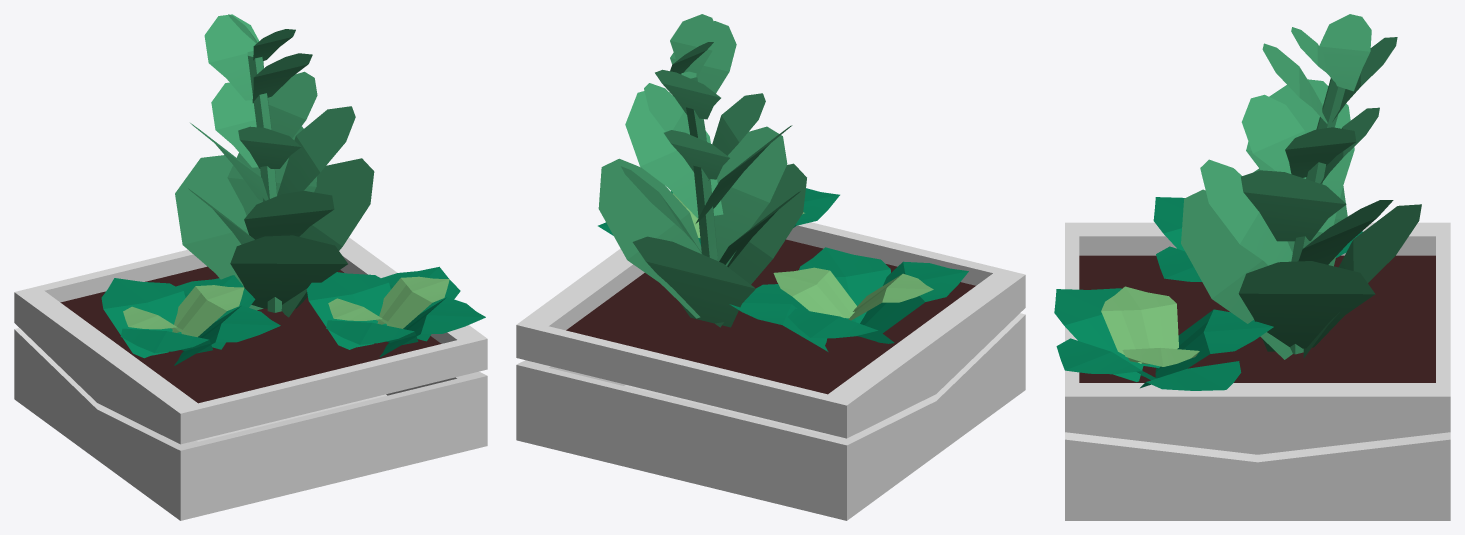
Rendered from Plant_farm_08.fbx.
3 renders of one model, left to right at view 1: azimuth 30°, elevation 25°; view 2: azimuth 150°, elevation 25°; view 3: azimuth 270°, elevation 25°, orthographic. The views are drawn at different scales.
Visible parts, largest first — view 1: polySurface2420, polySurface2139, polySurface2138, polySurface2140, polySurface2411, polySurface2410; view 2: polySurface2139, polySurface2420, polySurface2138, polySurface2140, polySurface2411, polySurface2410; view 3: polySurface2420, polySurface2138, polySurface2139, polySurface2140, polySurface2410, polySurface2411.
Part boxes in pixels (x1,y1,x2,y2): polySurface2420: (175,14,374,317); polySurface2139: (14,328,487,520); polySurface2138: (14,237,487,444); polySurface2140: (60,266,440,403); polySurface2411: (101,275,280,365); polySurface2410: (306,266,485,357); polySurface2139: (516,313,1025,520); polySurface2420: (598,14,806,327); polySurface2138: (516,222,1025,438); polySurface2140: (566,239,975,394); polySurface2411: (729,247,968,351); polySurface2410: (598,188,839,245); polySurface2420: (1181,14,1421,359); polySurface2138: (1065,222,1450,454); polySurface2139: (1065,432,1450,520); polySurface2140: (1079,255,1435,382); polySurface2410: (1054,286,1273,390); polySurface2411: (1153,197,1362,281).
Bounding box in the file's own units: 1.75 × 1.89 × 1.58.
